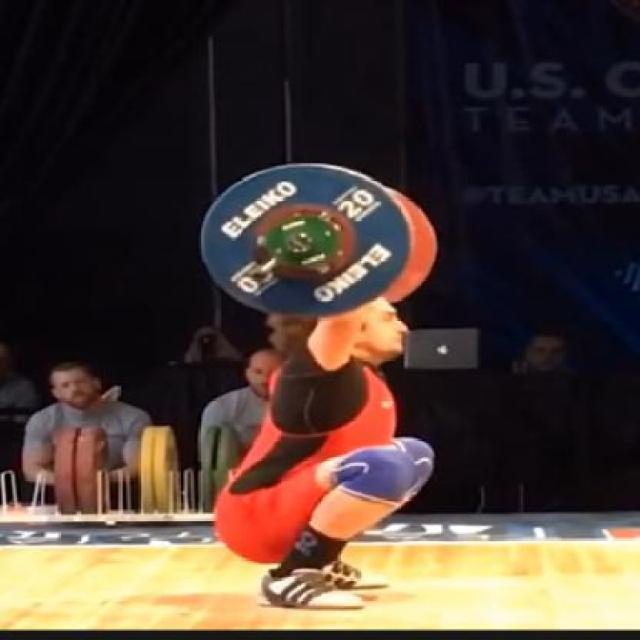barbell: (193, 158, 422, 324)
